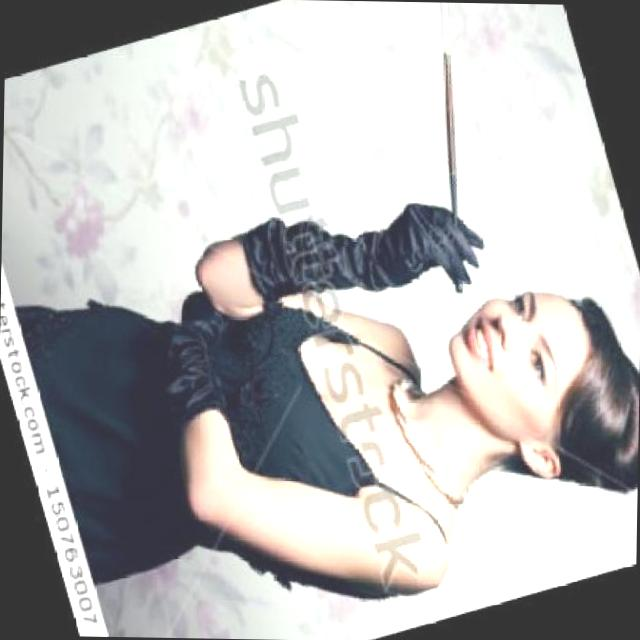cigarette: (413, 1, 468, 59)
